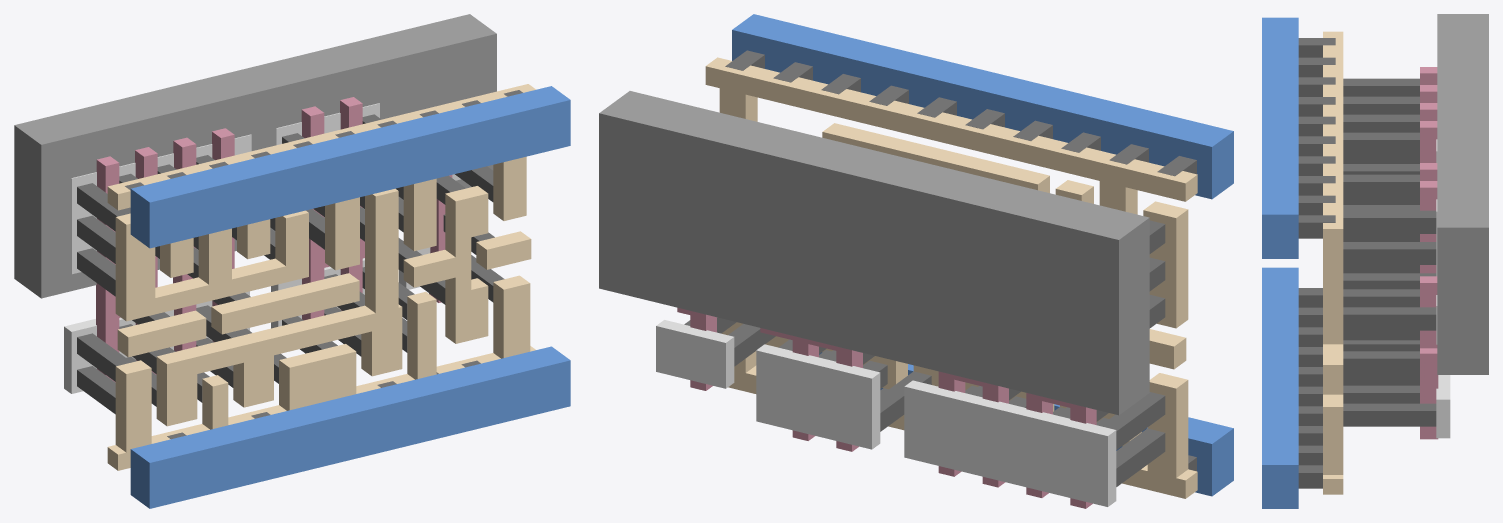
Rendered from sky130_fd_sc_hd__nor3b_2.gds.gltf.
The picture shows the model from 3 angles, left to right: view 1: azimuth 30°, elevation 25°; view 2: azimuth 150°, elevation 25°; view 3: azimuth 270°, elevation 25°; orthographic projection. The views are drawn at different scales.
Visible parts, largest first — view 1: sky130_fd_sc_hd__nor3b_2_li1, sky130_fd_sc_hd__nor3b_2_met1, sky130_fd_sc_hd__nor3b_2_nwell, sky130_fd_sc_hd__nor3b_2_licon, sky130_fd_sc_hd__nor3b_2_poly, sky130_fd_sc_hd__nor3b_2_diff, sky130_fd_sc_hd__nor3b_2_mcon; view 2: sky130_fd_sc_hd__nor3b_2_nwell, sky130_fd_sc_hd__nor3b_2_li1, sky130_fd_sc_hd__nor3b_2_diff, sky130_fd_sc_hd__nor3b_2_met1, sky130_fd_sc_hd__nor3b_2_licon, sky130_fd_sc_hd__nor3b_2_mcon, sky130_fd_sc_hd__nor3b_2_poly; view 3: sky130_fd_sc_hd__nor3b_2_licon, sky130_fd_sc_hd__nor3b_2_nwell, sky130_fd_sc_hd__nor3b_2_met1, sky130_fd_sc_hd__nor3b_2_mcon, sky130_fd_sc_hd__nor3b_2_li1, sky130_fd_sc_hd__nor3b_2_poly, sky130_fd_sc_hd__nor3b_2_diff.
Part boxes in pixels (x1,y1,x2,y2): sky130_fd_sc_hd__nor3b_2_li1: [107, 84, 535, 470]; sky130_fd_sc_hd__nor3b_2_met1: [130, 86, 570, 508]; sky130_fd_sc_hd__nor3b_2_nwell: [14, 14, 496, 298]; sky130_fd_sc_hd__nor3b_2_licon: [77, 114, 504, 414]; sky130_fd_sc_hd__nor3b_2_poly: [96, 97, 452, 382]; sky130_fd_sc_hd__nor3b_2_diff: [64, 103, 460, 393]; sky130_fd_sc_hd__nor3b_2_mcon: [125, 90, 522, 439]; sky130_fd_sc_hd__nor3b_2_nwell: [599, 91, 1149, 415]; sky130_fd_sc_hd__nor3b_2_li1: [705, 57, 1197, 498]; sky130_fd_sc_hd__nor3b_2_diff: [656, 320, 1116, 506]; sky130_fd_sc_hd__nor3b_2_met1: [732, 14, 1233, 496]; sky130_fd_sc_hd__nor3b_2_licon: [684, 220, 1165, 486]; sky130_fd_sc_hd__nor3b_2_mcon: [725, 50, 1196, 471]; sky130_fd_sc_hd__nor3b_2_poly: [677, 307, 1096, 508]; sky130_fd_sc_hd__nor3b_2_licon: [1343, 78, 1436, 426]; sky130_fd_sc_hd__nor3b_2_nwell: [1437, 14, 1488, 374]; sky130_fd_sc_hd__nor3b_2_met1: [1262, 17, 1298, 508]; sky130_fd_sc_hd__nor3b_2_mcon: [1298, 38, 1335, 488]; sky130_fd_sc_hd__nor3b_2_li1: [1323, 31, 1343, 494]; sky130_fd_sc_hd__nor3b_2_poly: [1420, 67, 1438, 439]; sky130_fd_sc_hd__nor3b_2_diff: [1436, 139, 1450, 438].
Size of the model in its own units: 4.98 by 3.2 by 2.24.
